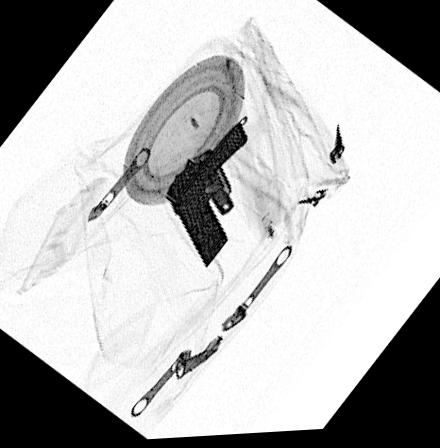Gun: (164, 124, 247, 271)
